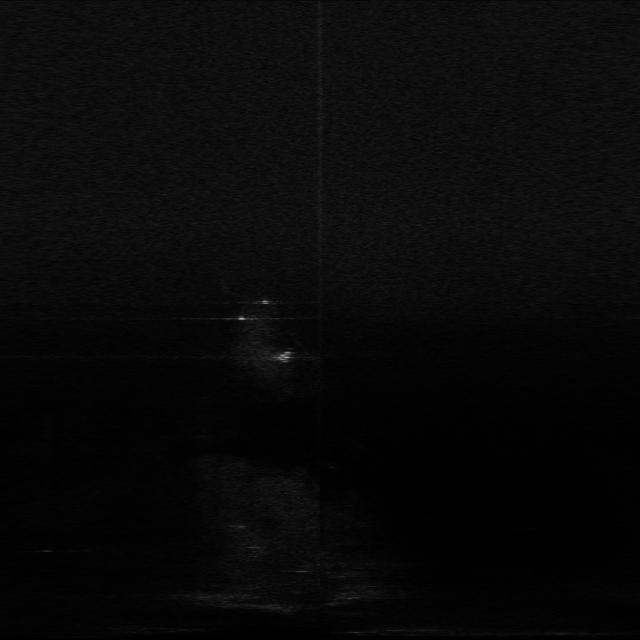rov: (269, 349, 297, 364)
